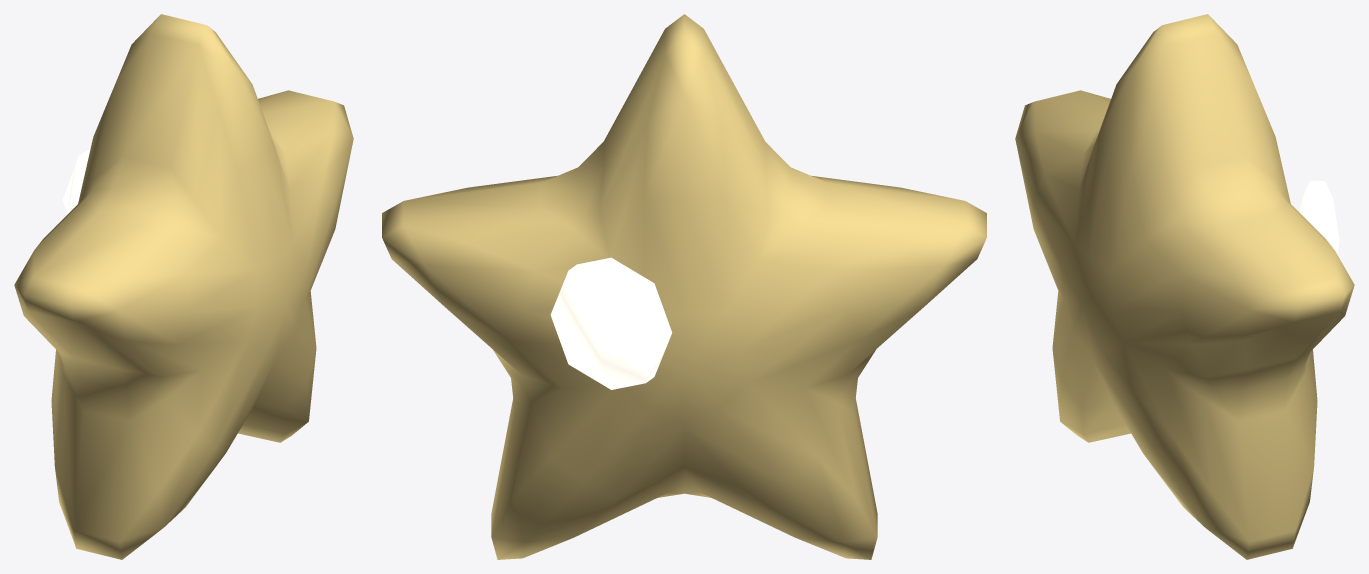
File: Acc_StarPin.fbx
3 renders of one model, left to right at view 1: azimuth 30°, elevation 25°; view 2: azimuth 150°, elevation 25°; view 3: azimuth 270°, elevation 25°, orthographic. The views are drawn at different scales.
Parts seen in each view (by area): view 1: Star_Pin, Star_Pin_Glint; view 2: Star_Pin, Star_Pin_Glint; view 3: Star_Pin, Star_Pin_Glint.
Part boxes in pixels (left/top/right/bottom): Star_Pin: left=14, top=14, right=353, bottom=559; Star_Pin_Glint: left=62, top=148, right=90, bottom=213; Star_Pin: left=382, top=14, right=986, bottom=559; Star_Pin_Glint: left=550, top=257, right=672, bottom=389; Star_Pin: left=1015, top=14, right=1354, bottom=559; Star_Pin_Glint: left=1299, top=181, right=1339, bottom=254.
Bounding box in the file's own units: 11.35 × 11.81 × 7.68.
